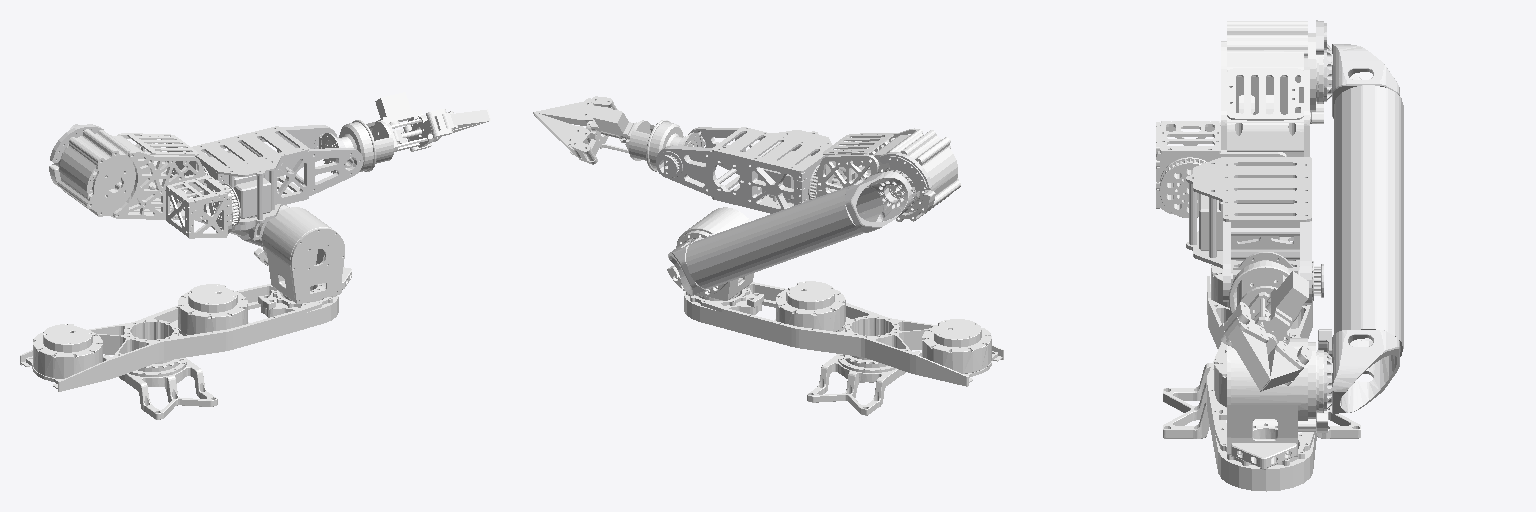
robot.urdf — robot_arm_simulation:
<?xml version="1.0" encoding="utf-8"?>
<!-- This URDF was automatically created by SolidWorks to URDF Exporter! Originally created by Stephen Brawner (brawner@gmail.com) 
     Commit Version: 1.6.0-4-g7f85cfe  Build Version: 1.6.7995.38578
     For more information, please see http://wiki.ros.org/sw_urdf_exporter -->
<robot
  name="robot_arm_simulation">
  <link
    name="base_link">
    <inertial>
      <origin
        xyz="-1.8481475536564E-06 -7.10629805491733E-06 -0.0267311337725288"
        rpy="0 0 0" />
      <mass
        value="0.181232608187363" />
      <inertia
        ixx="0.000378119119266141"
        ixy="3.44690130693897E-08"
        ixz="1.20814176196083E-08"
        iyy="0.00022347492416703"
        iyz="-3.05424802211049E-08"
        izz="0.000529738583236575" />
    </inertial>
    <visual>
      <origin
        xyz="0 0 0"
        rpy="0 0 0" />
      <geometry>
        <mesh
          filename="package://robot_arm_simulation/meshes/base_link.STL" />
      </geometry>
      <material
        name="">
        <color
          rgba="1 1 1 1" />
      </material>
    </visual>
    <collision>
      <origin
        xyz="0 0 0"
        rpy="0 0 0" />
      <geometry>
        <mesh
          filename="package://robot_arm_simulation/meshes/base_link.STL" />
      </geometry>
    </collision>
  </link>
  <link
    name="link0">
    <inertial>
      <origin
        xyz="0.0108147358443656 0.000244300583749784 0.023897099706768"
        rpy="0 0 0" />
      <mass
        value="0.833374273328764" />
      <inertia
        ixx="0.00092317823615386"
        ixy="-0.000185764331109979"
        ixz="2.24518776706051E-05"
        iyy="0.013561542626424"
        iyz="-3.23958635740379E-07"
        izz="0.0142154180474" />
    </inertial>
    <visual>
      <origin
        xyz="0 0 0"
        rpy="0 0 0" />
      <geometry>
        <mesh
          filename="package://robot_arm_simulation/meshes/link0.STL" />
      </geometry>
      <material
        name="">
        <color
          rgba="1 1 1 1" />
      </material>
    </visual>
    <collision>
      <origin
        xyz="0 0 0"
        rpy="0 0 0" />
      <geometry>
        <mesh
          filename="package://robot_arm_simulation/meshes/link0.STL" />
      </geometry>
    </collision>
  </link>
  <joint
    name="joint0"
    type="revolute">
    <origin
      xyz="0 0 0"
      rpy="0 0 0" />
    <parent
      link="base_link" />
    <child
      link="link0" />
    <axis
      xyz="0 0 -1" />
    <limit
      lower="-3.14"
      upper="3.14"
      effort="0"
      velocity="0" />
  </joint>
  <link
    name="link1">
    <inertial>
      <origin
        xyz="0.00281617746286938 0.0187461141921188 0.0833848783721877"
        rpy="0 0 0" />
      <mass
        value="0.305120411505976" />
      <inertia
        ixx="0.00060365593490898"
        ixy="1.75785101198488E-05"
        ixz="3.50259614899608E-05"
        iyy="0.000541484333394694"
        iyz="-5.9555966794443E-05"
        izz="0.000485737262962219" />
    </inertial>
    <visual>
      <origin
        xyz="0 0 0"
        rpy="0 0 0" />
      <geometry>
        <mesh
          filename="package://robot_arm_simulation/meshes/link1.STL" />
      </geometry>
      <material
        name="">
        <color
          rgba="1 1 1 1" />
      </material>
    </visual>
    <collision>
      <origin
        xyz="0 0 0"
        rpy="0 0 0" />
      <geometry>
        <mesh
          filename="package://robot_arm_simulation/meshes/link1.STL" />
      </geometry>
    </collision>
  </link>
  <joint
    name="joint1"
    type="revolute">
    <origin
      xyz="0.249972182906892 0.00372931263954829 0"
      rpy="0 0 0" />
    <parent
      link="link0" />
    <child
      link="link1" />
    <axis
      xyz="0 0 1" />
    <limit
      lower="-2.5730"
      upper="2.5730"
      effort="0"
      velocity="0" />
  </joint>
  <link
    name="link2">
    <inertial>
      <origin
        xyz="0.190000000000007 -2.47857290247566E-14 -0.0369999999999998"
        rpy="0 0 0" />
      <mass
        value="0.00120144062508099" />
      <inertia
        ixx="3.01098397352893E-09"
        ixy="-6.30725217071682E-24"
        ixz="-3.6122640402303E-24"
        iyy="3.01098397352882E-09"
        iyz="-1.83067809799593E-24"
        izz="2.81812628017512E-09" />
    </inertial>
    <visual>
      <origin
        xyz="0 0 0"
        rpy="0 0 0" />
      <geometry>
        <mesh
          filename="package://robot_arm_simulation/meshes/link2.STL" />
      </geometry>
      <material
        name="">
        <color
          rgba="0.956862745098039 0.956862745098039 0.96078431372549 1" />
      </material>
    </visual>
    <collision>
      <origin
        xyz="0 0 0"
        rpy="0 0 0" />
      <geometry>
        <mesh
          filename="package://robot_arm_simulation/meshes/link2.STL" />
      </geometry>
    </collision>
  </link>
  <joint
    name="joint2"
    type="revolute">
    <origin
      xyz="0 0.104000000000106 0.100000000000022"
      rpy="1.57079632679489 -0.523598775598304 -3.14159265358978" />
    <parent
      link="link1" />
    <child
      link="link2" />
    <axis
      xyz="0 0 -1" />
    <limit
      lower="-2.4434"
      upper="0.4363"
      effort="0"
      velocity="0" />
  </joint>
  <link
    name="link3">
    <inertial>
      <origin
        xyz="0.0618247501434966 -0.00574949681042053 0.106725013290343"
        rpy="0 0 0" />
      <mass
        value="0.536763177034616" />
      <inertia
        ixx="0.00123547344750963"
        ixy="6.88093987626518E-05"
        ixz="-0.000549987044561004"
        iyy="0.00270756218674663"
        iyz="3.50583957100169E-05"
        izz="0.00223994026069026" />
    </inertial>
    <visual>
      <origin
        xyz="0 0 0"
        rpy="0 0 0" />
      <geometry>
        <mesh
          filename="package://robot_arm_simulation/meshes/link3.STL" />
      </geometry>
      <material
        name="">
        <color
          rgba="1 1 1 1" />
      </material>
    </visual>
    <collision>
      <origin
        xyz="0 0 0"
        rpy="0 0 0" />
      <geometry>
        <mesh
          filename="package://robot_arm_simulation/meshes/link3.STL" />
      </geometry>
    </collision>
  </link>
  <joint
    name="joint3"
    type="revolute">
    <origin
      xyz="0.379999999999995 0 0"
      rpy="-3.14159265358978 0 2.86560986838417" />
    <parent
      link="link2" />
    <child
      link="link3" />
    <axis
      xyz="0 0 1" />
    <limit
      lower="-0.1483"
      upper="1.7278"
      effort="0"
      velocity="0" />
  </joint>
  <link
    name="link4">
    <inertial>
      <origin
        xyz="0.217000625089306 -1.06919268133554E-07 -0.0450251750160548"
        rpy="0 0 0" />
      <mass
        value="0.00070668006251143" />
      <inertia
        ixx="8.87471292614169E-08"
        ixy="2.14783082800022E-14"
        ixz="2.21248236893976E-12"
        iyy="8.87460431212707E-08"
        iyz="-3.0336661935625E-15"
        izz="1.77310742422399E-07" />
    </inertial>
    <visual>
      <origin
        xyz="0 0 0"
        rpy="0 0 0" />
      <geometry>
        <mesh
          filename="package://robot_arm_simulation/meshes/link4.STL" />
      </geometry>
      <material
        name="">
        <color
          rgba="0.956862745098039 0.956862745098039 0.96078431372549 1" />
      </material>
    </visual>
    <collision>
      <origin
        xyz="0 0 0"
        rpy="0 0 0" />
      <geometry>
        <mesh
          filename="package://robot_arm_simulation/meshes/link4.STL" />
      </geometry>
    </collision>
  </link>
  <joint
    name="joint4"
    type="revolute">
    <origin
      xyz="0.170514230369511 -0.0136236215597361 0.104000000000098"
      rpy="0 0 0.247615990392682" />
    <parent
      link="link3" />
    <child
      link="link4" />
    <axis
      xyz="1 0 0" />
    <limit
      lower="-3.14"
      upper="3.14"
      effort="0"
      velocity="0" />
  </joint>
  <link
    name="link5">
    <inertial>
      <origin
        xyz="0.00483227299448008 -2.10885481299883E-09 0.00192542585120945"
        rpy="0 0 0" />
      <mass
        value="0.0110671006875999" />
      <inertia
        ixx="7.41946825265039E-06"
        ixy="4.76537920319406E-14"
        ixz="-1.55739913026013E-07"
        iyy="5.76159944612995E-06"
        iyz="3.15203340023729E-13"
        izz="1.99830467010599E-06" />
    </inertial>
    <visual>
      <origin
        xyz="0 0 0"
        rpy="0 0 0" />
      <geometry>
        <mesh
          filename="package://robot_arm_simulation/meshes/link5.STL" />
      </geometry>
      <material
        name="">
        <color
          rgba="0.956862745098039 0.956862745098039 0.96078431372549 1" />
      </material>
    </visual>
    <collision>
      <origin
        xyz="0 0 0"
        rpy="0 0 0" />
      <geometry>
        <mesh
          filename="package://robot_arm_simulation/meshes/link5.STL" />
      </geometry>
    </collision>
  </link>
  <joint
    name="joint5"
    type="revolute">
    <origin
      xyz="0.210999999999995 0 -0.000200826104553409"
      rpy="0 0 0" />
    <parent
      link="link4" />
    <child
      link="link5" />
    <axis
      xyz="0 0 -1" />
    <limit
      lower="-1.57"
      upper="1.57"
      effort="0"
      velocity="0" />
  </joint>
  <link
    name="link6">
    <inertial>
      <origin
        xyz="-0.0485348368896795 0.0045998859740175 -0.00332955237119305"
        rpy="0 0 0" />
      <mass
        value="0.246839256816383" />
      <inertia
        ixx="7.57849272735271E-05"
        ixy="-2.28162971402304E-07"
        ixz="2.12828262621745E-07"
        iyy="9.64512984368946E-05"
        iyz="-8.80640692185675E-07"
        izz="8.90211772067686E-05" />
    </inertial>
    <visual>
      <origin
        xyz="0 0 0"
        rpy="0 0 0" />
      <geometry>
        <mesh
          filename="package://robot_arm_simulation/meshes/link6.STL" />
      </geometry>
      <material
        name="">
        <color
          rgba="1 1 1 1" />
      </material>
    </visual>
    <collision>
      <origin
        xyz="0 0 0"
        rpy="0 0 0" />
      <geometry>
        <mesh
          filename="package://robot_arm_simulation/meshes/link6.STL" />
      </geometry>
    </collision>
  </link>
  <joint
    name="joint6"
    type="revolute">
    <origin
      xyz="0.165495369417836 -0.000286512310867959 0.00021347854923668"
      rpy="0 0 0" />
    <parent
      link="link5" />
    <child
      link="link6" />
    <axis
      xyz="1 0 0" />
    <limit
      lower="0.0"
      upper="0.0"
      effort="0"
      velocity="0" />
  </joint>
</robot>

--- What the picture shows (computed from the rendered views, not written in the file) ---
Views: 3 orthographic renders of the robot side by side, from view 1: azimuth 30°, elevation 25°; view 2: azimuth 150°, elevation 25°; view 3: azimuth 270°, elevation 25°.
Model robot_arm_simulation with 8 links and 7 joints (7 revolute), rooted at base_link, posed every joint at zero.
Links seen in each view (by area): view 1: link0, link3, link4, link1, link6, base_link, link2; view 2: link0, link2, link4, link3, link6, base_link, link1; view 3: link2, link3, link4, link1, link6, link0, base_link, link5.
Boxes of the visible links, x1,y1,x2,y2 form: link0: (20,284,338,391); link3: (49,129,240,238); link4: (186,125,363,230); link1: (254,207,351,303); link6: (325,92,490,171); base_link: (103,355,217,419); link2: (50,124,289,246); link0: (684,281,1003,386); link2: (668,152,932,295); link4: (656,127,833,213); link3: (810,128,960,221); link6: (533,96,696,171); base_link: (807,351,921,415); link1: (667,207,753,300); link2: (1316,20,1403,413); link3: (1156,21,1323,217); link4: (1186,157,1323,304); link1: (1227,338,1327,469); link6: (1219,261,1311,391); link0: (1207,265,1316,491); base_link: (1163,363,1360,438); link5: (1231,252,1297,285).
Size in the robot's own frame: 0.7376 by 0.249 by 0.3995 metres.
8 mesh visuals loaded from 8 distinct referenced files (8 binary STL).
